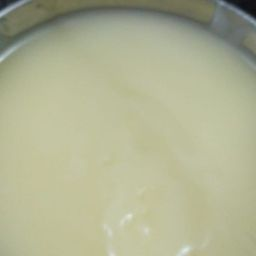Clarified Butter(ghee): (9, 44, 247, 256), (50, 63, 222, 240)
